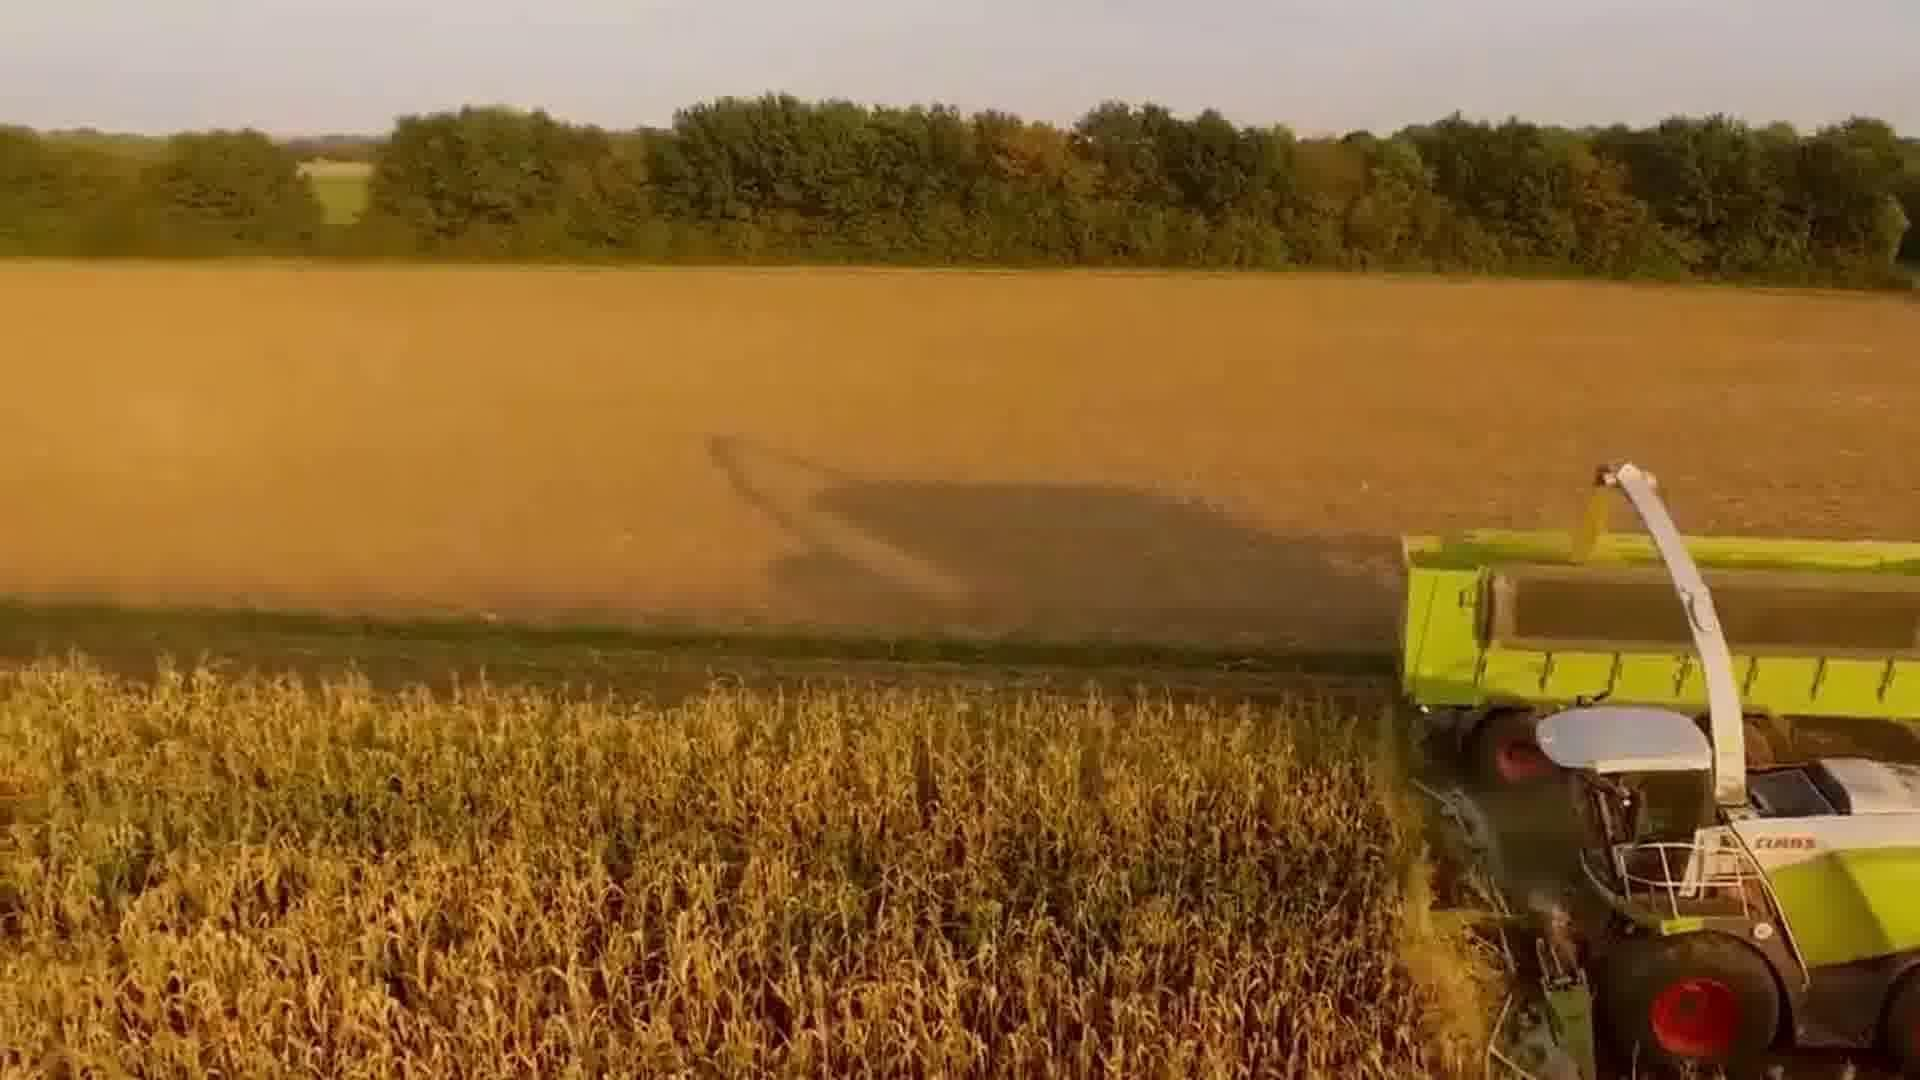combine harvester: (1407, 457, 1914, 1080)
trailer: (1388, 520, 1920, 782)
